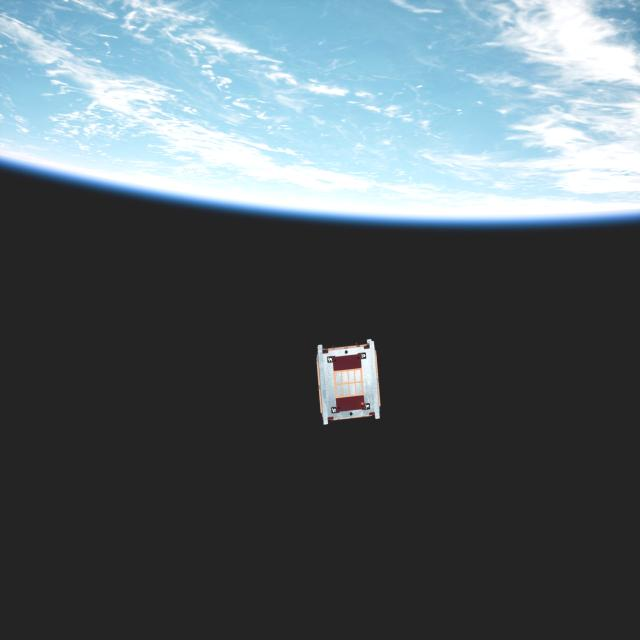satellite: (314, 336, 382, 423)
